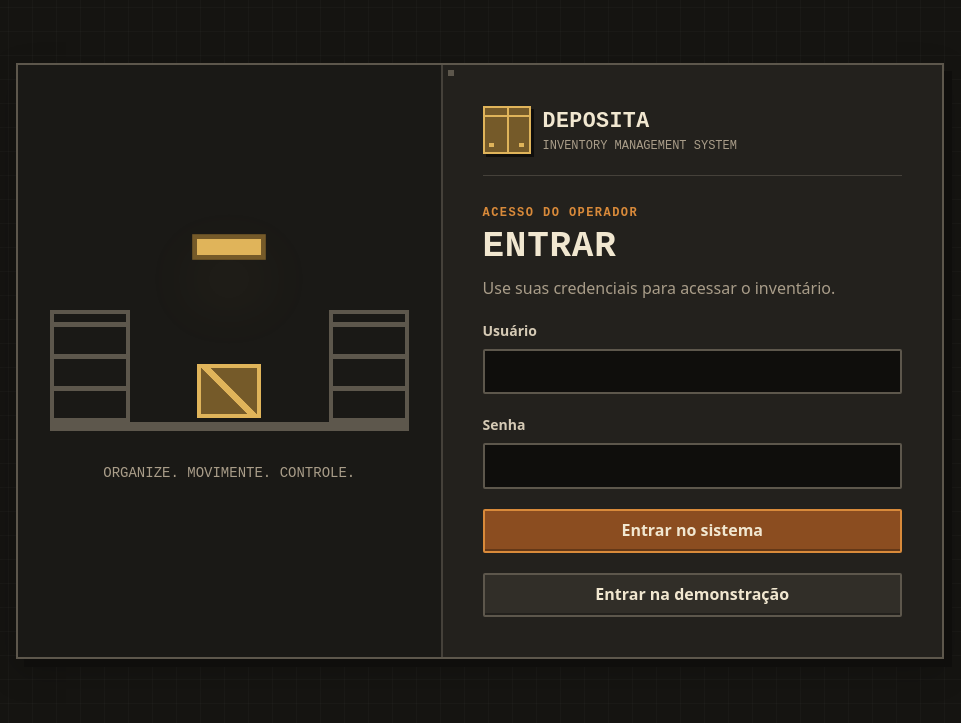
LoginPage › permite nova tentativa quando a API continua indisponível
The image size is (961, 723).
Click the button "Entrar na demonstração". click: (692, 595)
box: [482,573,902,617]
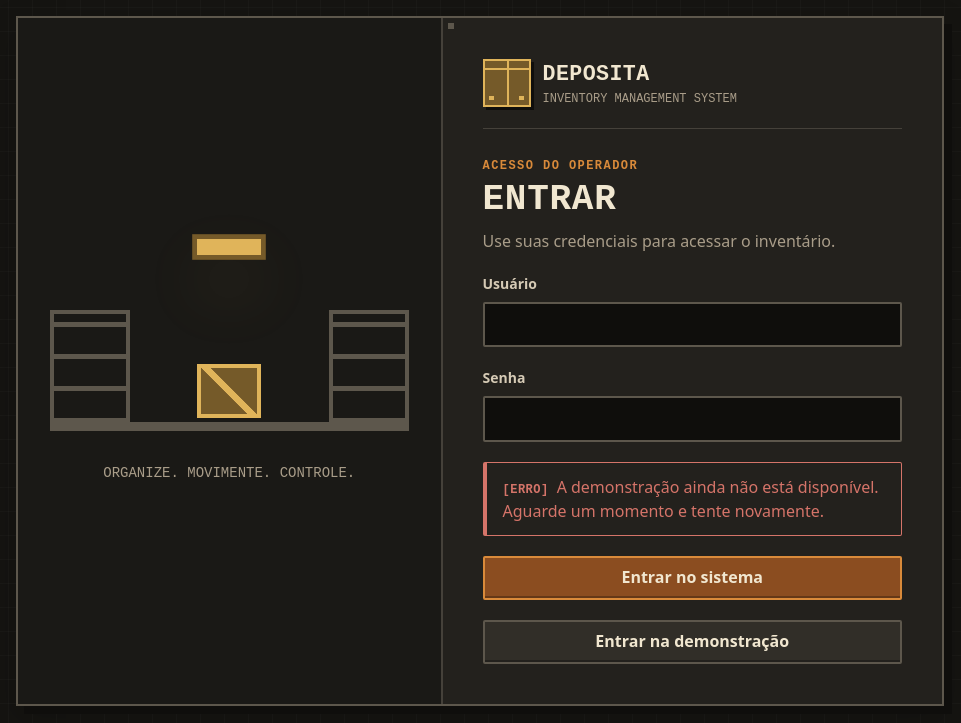
Expected: the button "Entrar na demonstração" is enabled, [482,620,902,664]
Result: the message shows "A demonstração ainda não está disponível" at [502,476,879,522]
